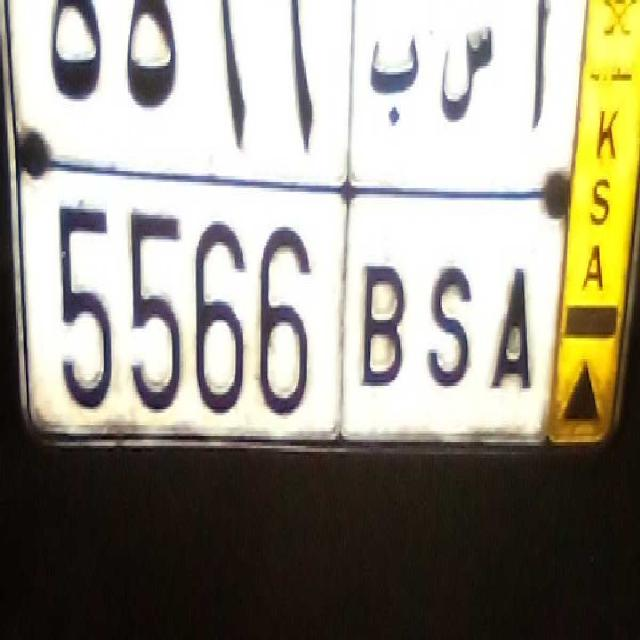license_plate: (15, 157, 551, 466)
